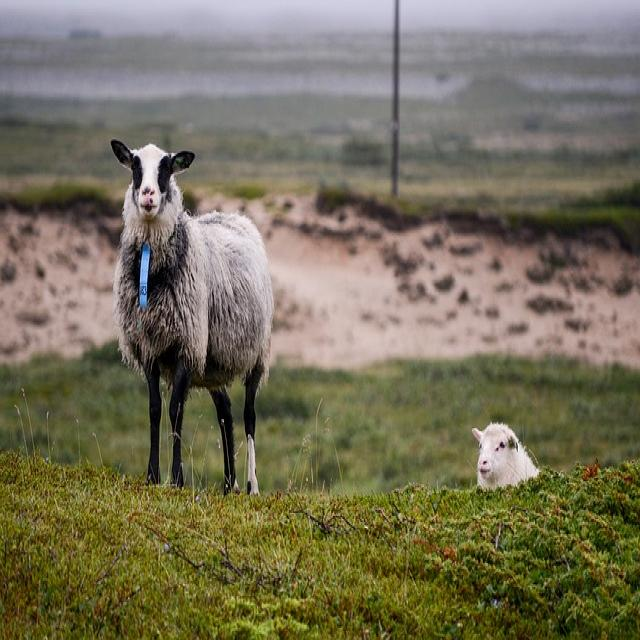goat: (112, 141, 275, 493), (474, 422, 540, 490)
